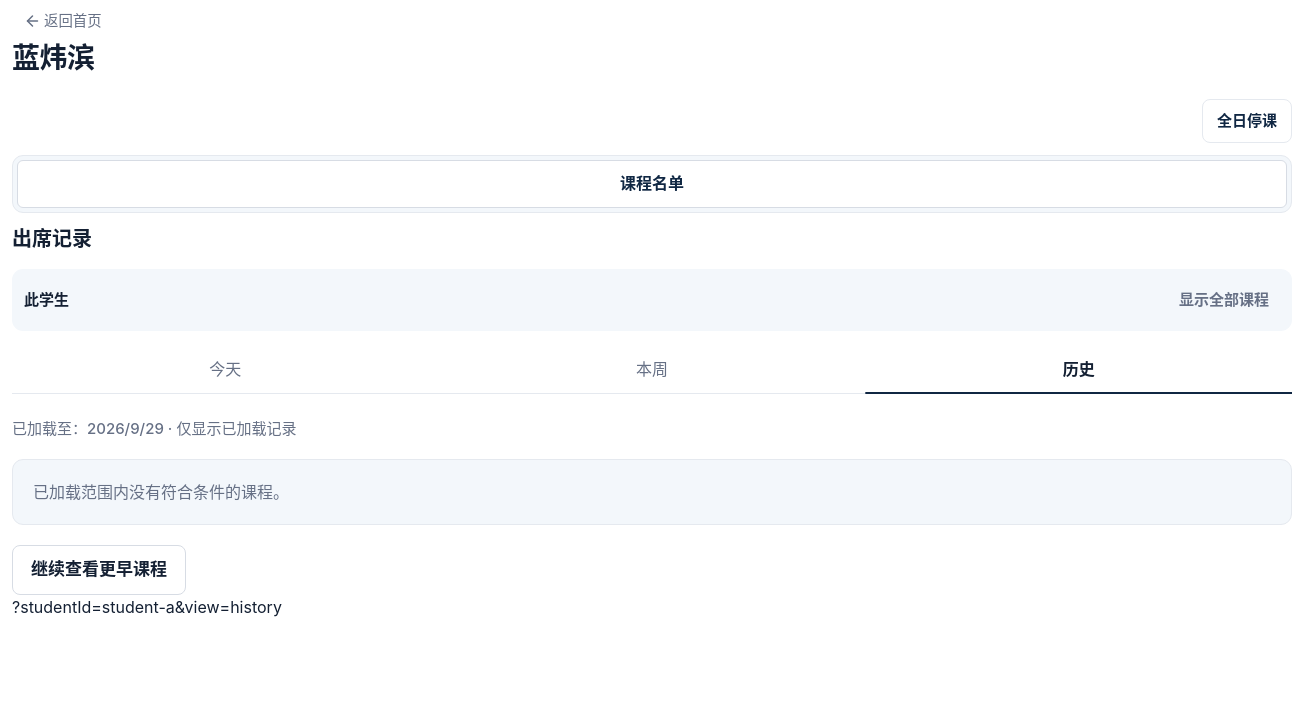
it: continues to older courses even when the first student-filtered batch is empty
This screenshot has width=1304, height=720.
Expected: the text "已加载至：2026/9/29 · 仅显示已加载记录" is shown, x1=12 y1=419 x2=296 y2=438
Click the button "继续查看更早课程" at point(99, 570), box x1=12 y1=545 x2=186 y2=595
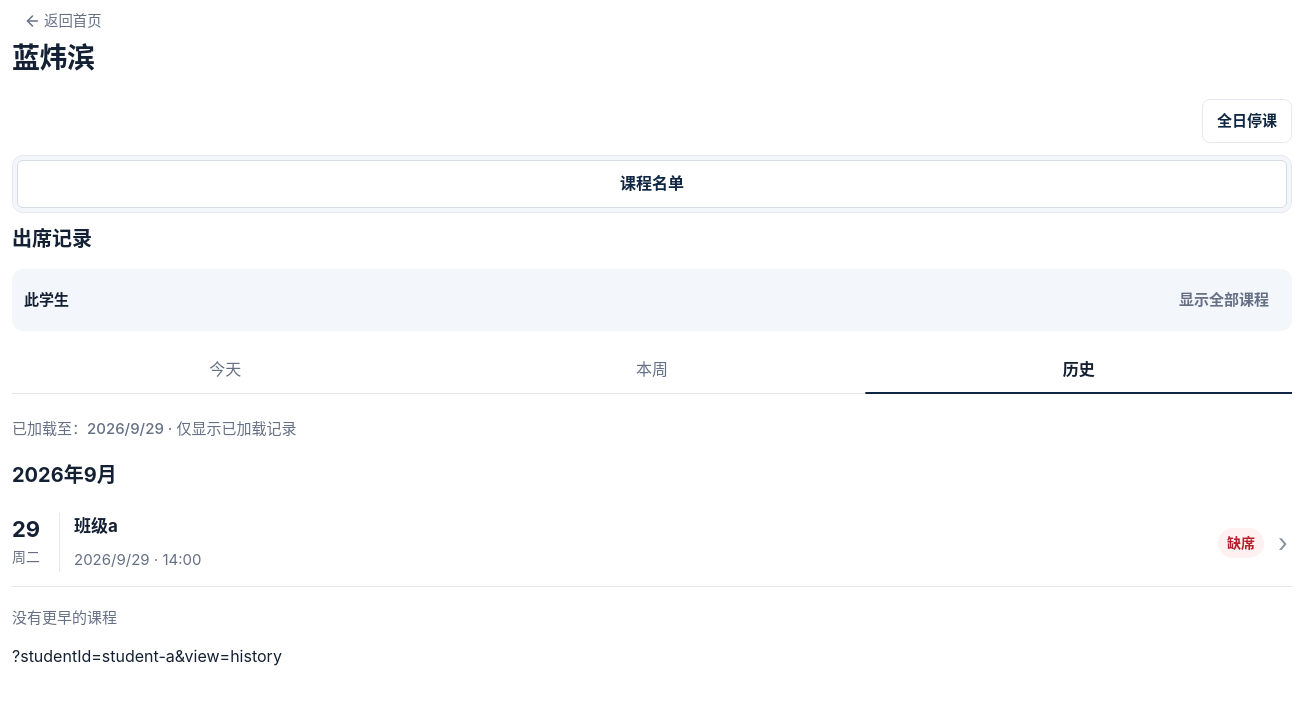
Expected: the link "班级a" is shown, x1=12 y1=499 x2=1292 y2=587
Expected: the text "没有更早的课程" is shown, x1=12 y1=608 x2=117 y2=627
